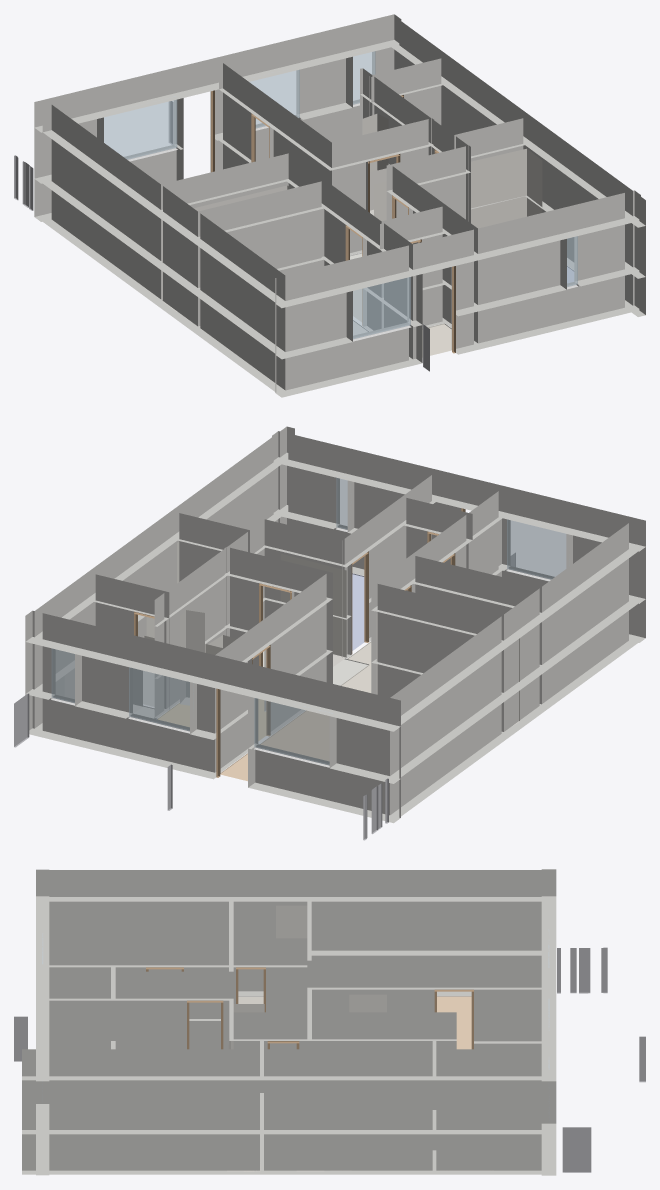
3 views of the same model, one above another, from view 1: azimuth 30°, elevation 25°; view 2: azimuth 150°, elevation 25°; view 3: azimuth 270°, elevation 25° (orthographic). The views are drawn at different scales.
Visible parts, largest first — view 1: walls, furniture_3_closet, window_3, window_12, window_0, railings, floor_9_Entry, window_1, furniture_0_closet, furniture_2_closet; view 2: walls, window_3, window_0, window_12, floor_0_Living_Room, railings, furniture_3_closet, furniture_0_closet, window_1, floor_7_Bed_Room, floor_2_Entry, floor_3_Kitchen (+4 smaller); view 3: walls, railings, floor_0_Living_Room, furniture_2_closet, furniture_1_closet.
Boxes of the visible parts, x1,y1,x2,y2 form: walls: [34, 14, 645, 397]; furniture_3_closet: [374, 148, 542, 228]; window_3: [100, 96, 177, 159]; window_12: [353, 277, 410, 338]; window_0: [249, 69, 299, 128]; railings: [14, 101, 429, 371]; floor_9_Entry: [422, 323, 451, 357]; window_1: [349, 51, 375, 104]; furniture_0_closet: [362, 113, 388, 172]; furniture_2_closet: [162, 185, 291, 311]; walls: [25, 426, 645, 823]; window_3: [254, 698, 332, 764]; window_0: [129, 667, 193, 730]; window_12: [507, 519, 569, 579]; floor_0_Living_Room: [220, 710, 329, 781]; railings: [14, 553, 515, 840]; furniture_3_closet: [177, 542, 346, 666]; furniture_0_closet: [180, 610, 204, 705]; window_1: [51, 648, 74, 702]; floor_7_Bed_Room: [352, 573, 364, 650]; floor_2_Entry: [341, 641, 371, 692]; floor_3_Kitchen: [157, 699, 265, 740]; walls: [22, 869, 556, 1175]; railings: [14, 947, 645, 1172]; floor_0_Living_Room: [437, 996, 471, 1049]; furniture_2_closet: [276, 905, 307, 938]; furniture_1_closet: [349, 994, 386, 1012].
Bounding box in the file's own units: 8.85 × 2.72 × 12.76.
